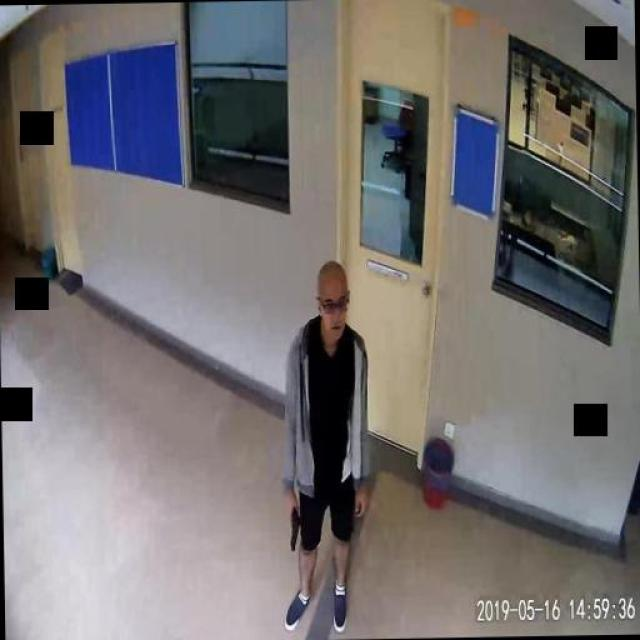gun: (285, 501, 299, 550)
